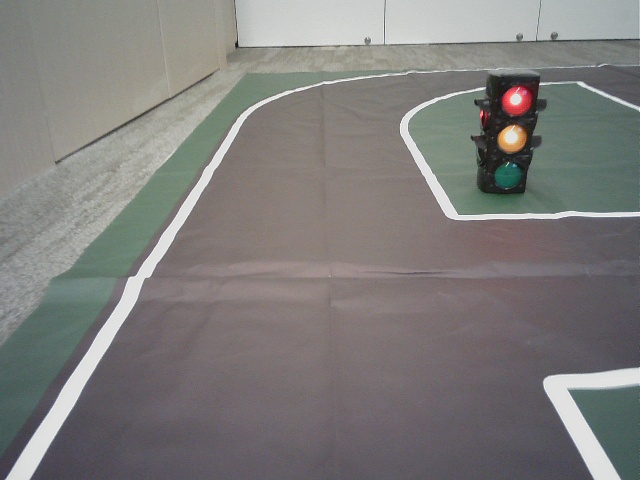red: (490, 81, 530, 190)
